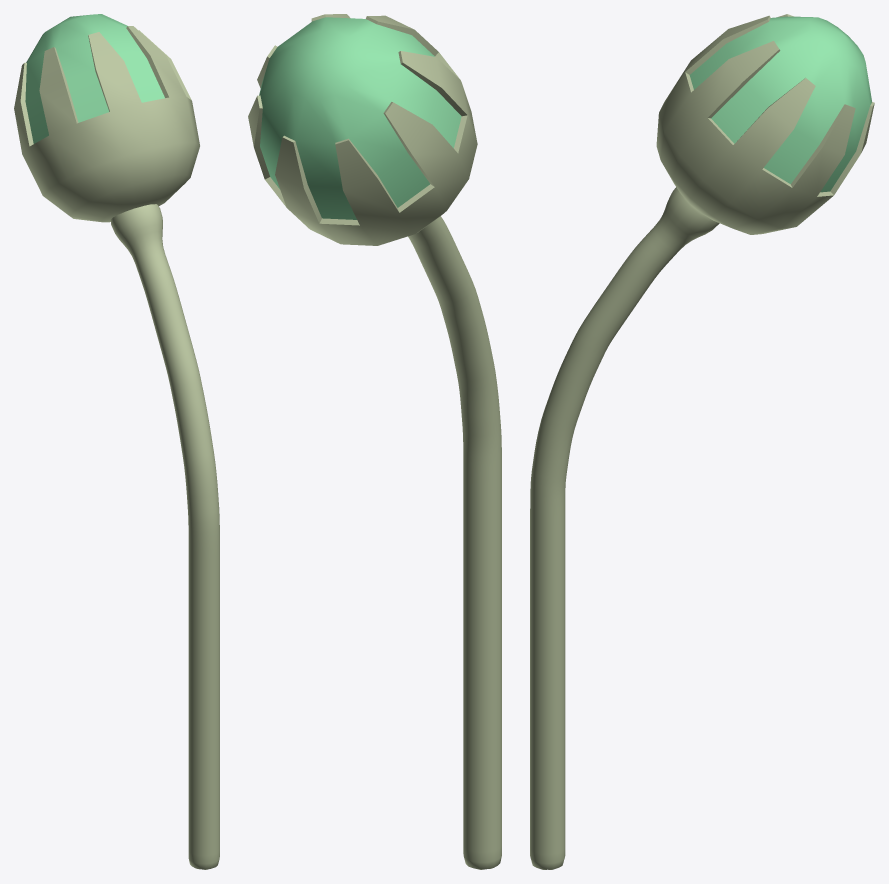
Rendered from FlowerBulb.fbx.
3 renders of one model, left to right at view 1: azimuth 30°, elevation 25°; view 2: azimuth 150°, elevation 25°; view 3: azimuth 270°, elevation 25°, orthographic. The views are drawn at different scales.
Visible parts, largest first — view 1: Bulb.006, Stem.002; view 2: Bulb.006, Stem.002; view 3: Bulb.006, Stem.002.
Part boxes in pixels (<box>): Bulb.006: <box>14,14,199,222</box>; Stem.002: <box>110,204,219,869</box>; Bulb.006: <box>248,14,477,245</box>; Stem.002: <box>408,216,501,869</box>; Bulb.006: <box>656,14,874,234</box>; Stem.002: <box>530,187,719,869</box>.
Size of the model in its own units: 7.85 by 36.94 by 13.68.
